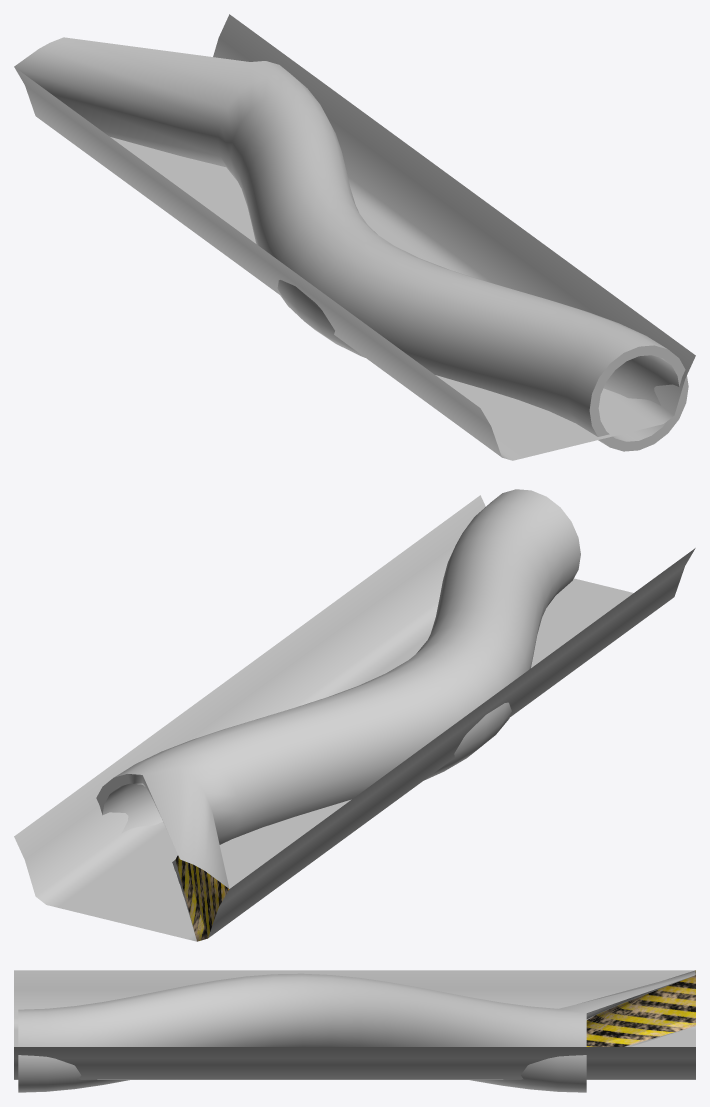
The model's file is tunnel1_Chunk.fbx.
3 views of the same model, one above another, from view 1: azimuth 30°, elevation 25°; view 2: azimuth 150°, elevation 25°; view 3: azimuth 270°, elevation 25° (orthographic). The views are drawn at different scales.
Visible parts, largest first — view 1: tunnel1_Chunk; view 2: tunnel1_Chunk; view 3: tunnel1_Chunk.
Part boxes in pixels (left/top/right/bottom): tunnel1_Chunk: left=14, top=14, right=695, bottom=460; tunnel1_Chunk: left=14, top=489, right=695, bottom=941; tunnel1_Chunk: left=14, top=970, right=695, bottom=1092.
Size of the model in its own units: 40 by 18.41 by 150.
